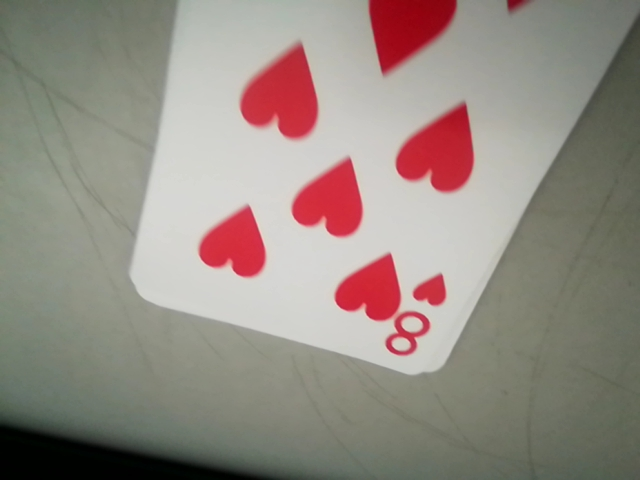hx 8: (388, 269, 451, 366)
